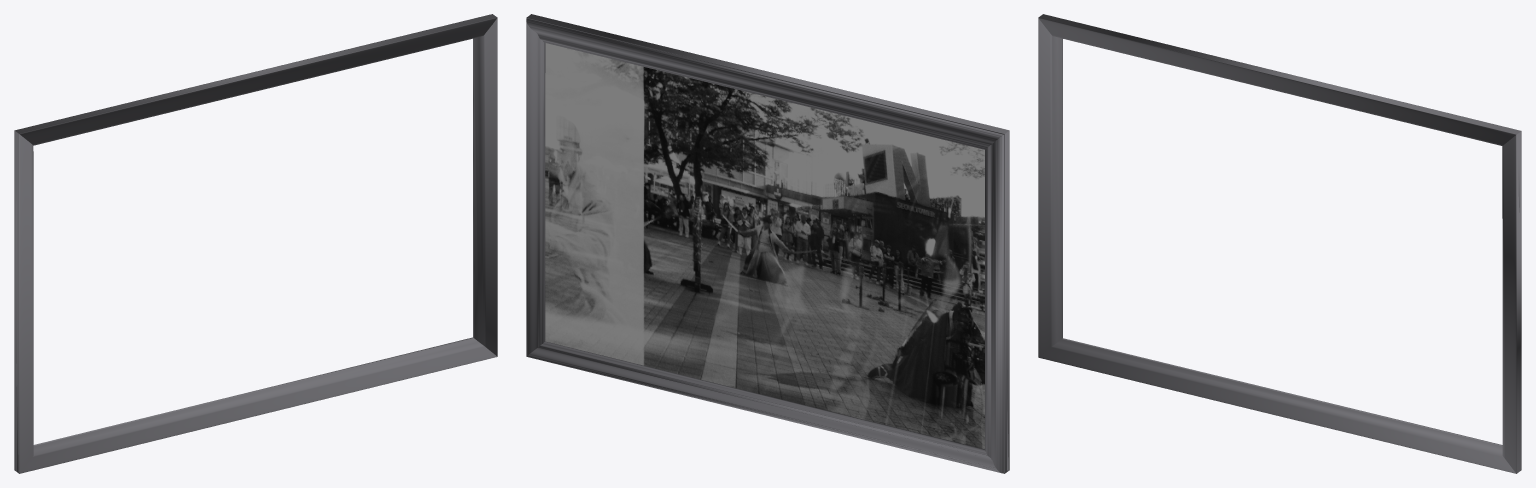
The model's file is frame.glb.
3 views of the same model, side by side, from view 1: azimuth 30°, elevation 25°; view 2: azimuth 150°, elevation 25°; view 3: azimuth 330°, elevation 25° (orthographic).
Parts seen in each view (by area): view 1: BezierCurve.003; view 2: BezierCurve.003; view 3: BezierCurve.003.
Part boxes in pixels (<box>): BezierCurve.003: <box>14,14,497,473</box>; BezierCurve.003: <box>526,14,1009,473</box>; BezierCurve.003: <box>1038,14,1521,473</box>.
Size of the model in its own units: 2.5 by 1.69 by 0.0706.
Materials: 2 (1 with a texture image).
